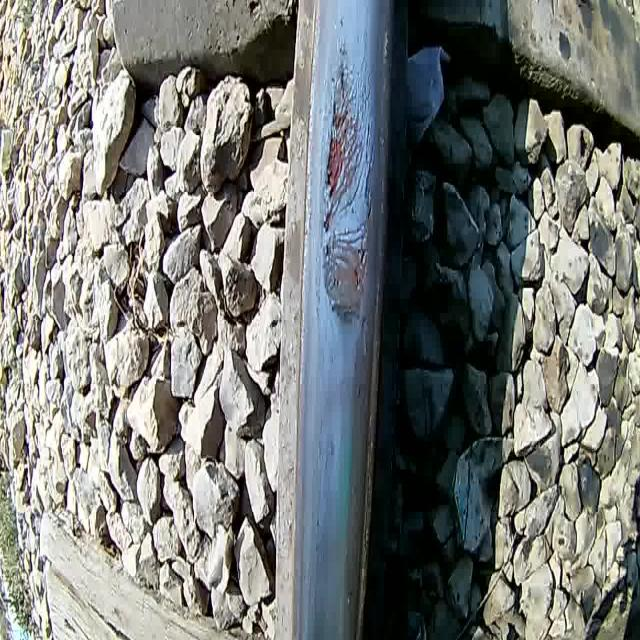Cracks: (351, 84, 374, 298)
Spallings: (320, 20, 364, 235)
Squats: (317, 226, 378, 331)
